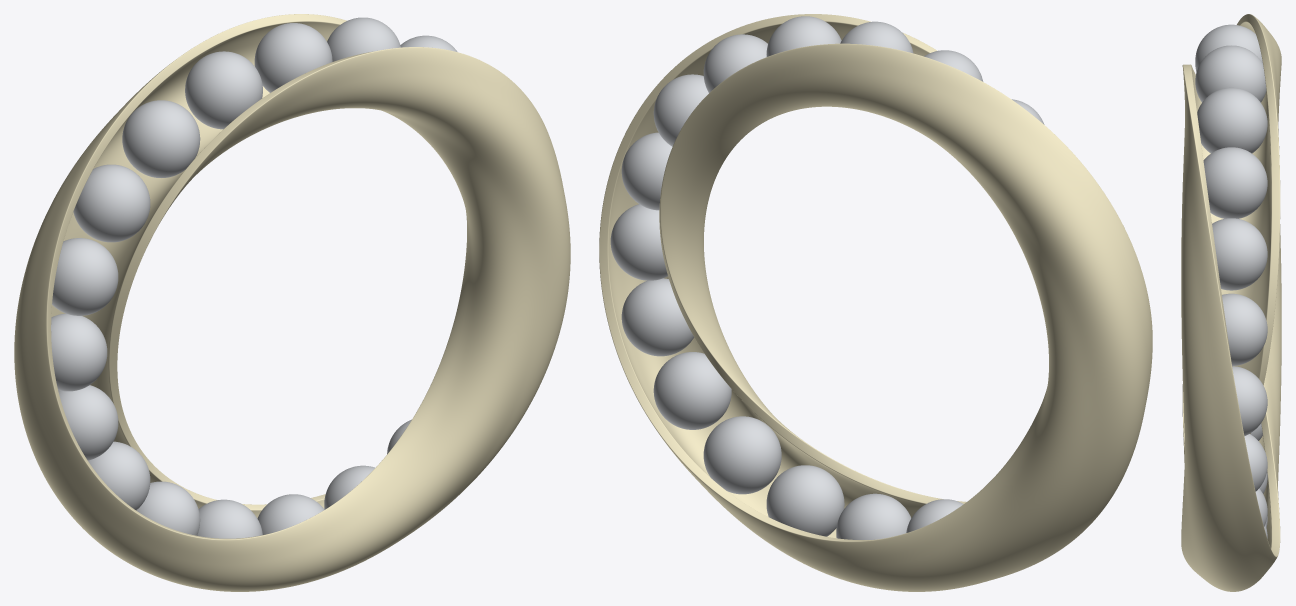
Rendered from ring.glb.
The picture shows the model from 3 angles, left to right: view 1: azimuth 30°, elevation 25°; view 2: azimuth 150°, elevation 25°; view 3: azimuth 270°, elevation 25°; orthographic projection. The views are drawn at different scales.
Parts seen in each view (by area): view 1: Gold shank - turning ribbon with solid backing, Silver bead 08, Silver bead 09, Silver bead 07, Silver bead 10, Silver bead 06, Silver bead 11, Silver bead 12, Silver bead 13, Silver bead 14, Silver bead 05, Silver bead 15 (+2 smaller); view 2: Gold shank - turning ribbon with solid backing, Silver bead 18, Silver bead 19, Silver bead 17, Silver bead 20, Silver bead 01, Silver bead 16, Silver bead 02, Silver bead 03, Silver bead 04, Silver bead 05, Silver bead 06 (+2 smaller); view 3: Gold shank - turning ribbon with solid backing, Silver bead 04, Silver bead 05, Silver bead 03, Silver bead 06, Silver bead 02, Silver bead 01, Silver bead 07, Silver bead 20, Silver bead 19.
Boxes of the visible parts, x1,y1,x2,y2 form: Gold shank - turning ribbon with solid backing: (14,14,570,591); Silver bead 08: (122,100,200,177); Silver bead 09: (73,164,150,242); Silver bead 07: (185,51,262,129); Silver bead 10: (52,238,118,315); Silver bead 06: (254,23,332,92); Silver bead 11: (51,313,107,391); Silver bead 12: (58,385,118,460); Silver bead 13: (88,441,150,510); Silver bead 14: (136,481,200,535); Silver bead 05: (327,17,400,61); Silver bead 15: (197,499,262,538); Gold shank - turning ribbon with solid backing: (599,14,1152,591); Silver bead 18: (703,416,781,494); Silver bead 19: (653,352,731,429); Silver bead 17: (766,465,844,536); Silver bead 20: (621,278,694,356); Silver bead 01: (610,204,667,280); Silver bead 16: (836,493,911,539); Silver bead 02: (621,132,672,210); Silver bead 03: (653,74,708,146); Silver bead 04: (703,34,767,92); Silver bead 05: (766,16,841,56); Silver bead 06: (840,21,913,53); Gold shank - turning ribbon with solid backing: (1181,14,1281,591); Silver bead 04: (1203,147,1267,218); Silver bead 05: (1197,87,1267,153); Silver bead 03: (1212,218,1267,290); Silver bead 06: (1195,45,1266,102); Silver bead 02: (1222,293,1267,365); Silver bead 01: (1232,366,1267,435); Silver bead 07: (1195,24,1262,70); Silver bead 20: (1244,434,1267,491); Silver bead 19: (1255,488,1267,526).
Bounding box in the file's own units: 3.12 × 3.05 × 0.5415.
